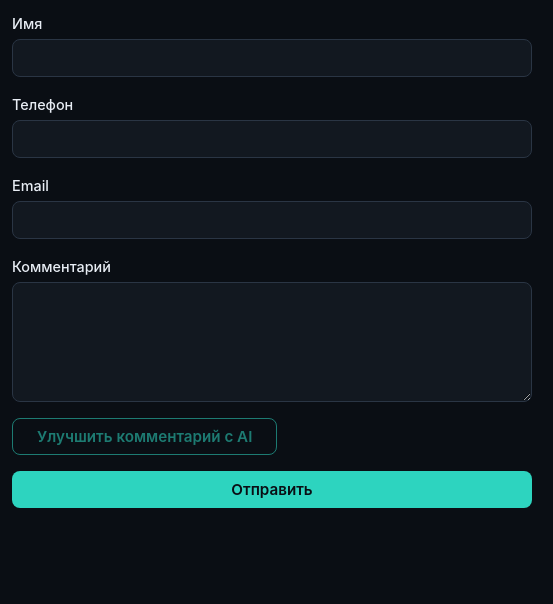
Test: ContactForm › shows global error for rate limit
Type "Артем Репин" into the field labelled "Имя" at (272, 58), box top-left (12, 39), bottom-right (532, 77)
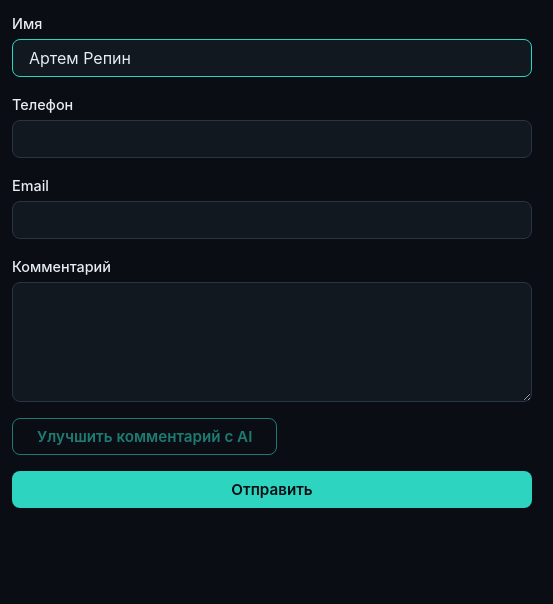
Type "+7 999 123 45 67" into the field labelled "Телефон" at (272, 139), box top-left (12, 120), bottom-right (532, 158)
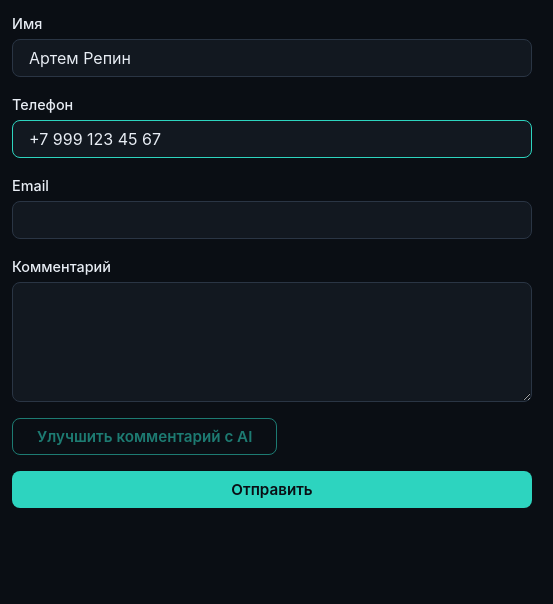
Type "test@example.com" into the field labelled "Email" at (272, 220), box top-left (12, 201), bottom-right (532, 239)
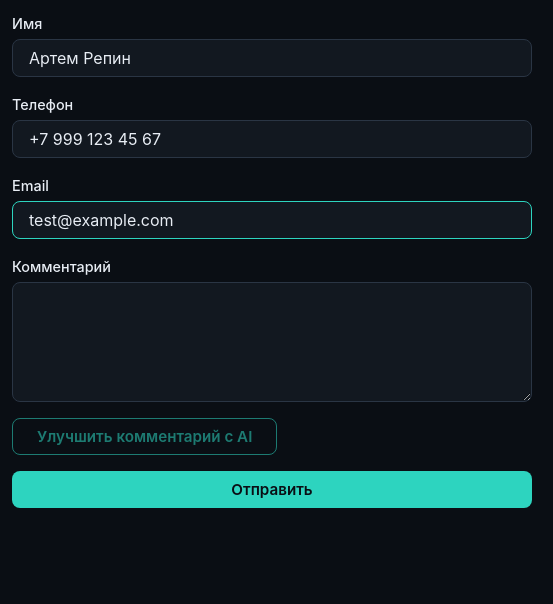
Type "Достаточно длинный комментарий для формы" into the text box labelled "Комментарий" at (272, 342), box top-left (12, 282), bottom-right (532, 402)
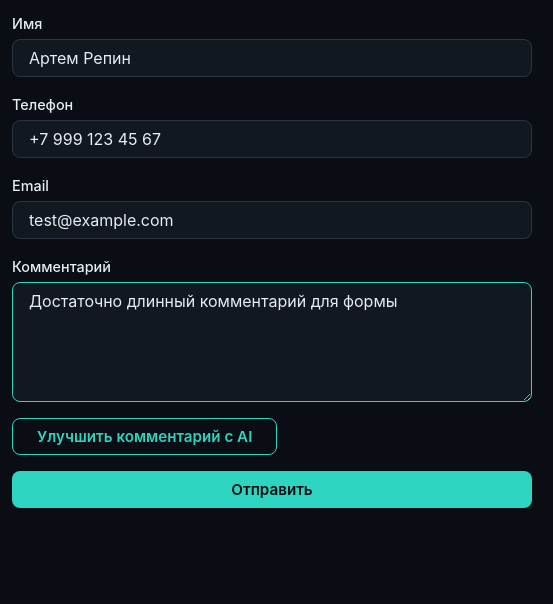
Click the button "Отправить" at (272, 490), box top-left (12, 471), bottom-right (532, 508)
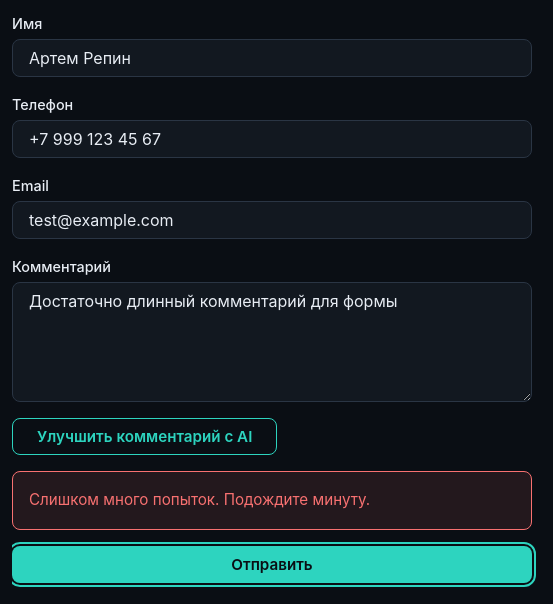
Expected: the message shows "Слишком много попыток", top-left (29, 490), bottom-right (370, 509)
